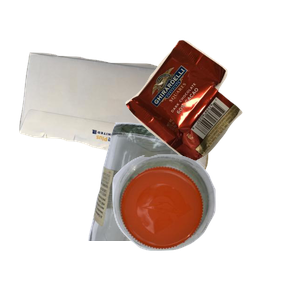glass: (86, 120, 277, 300)
paper: (17, 50, 231, 230)
plastic: (110, 152, 300, 300)
trash: (123, 37, 300, 192)
